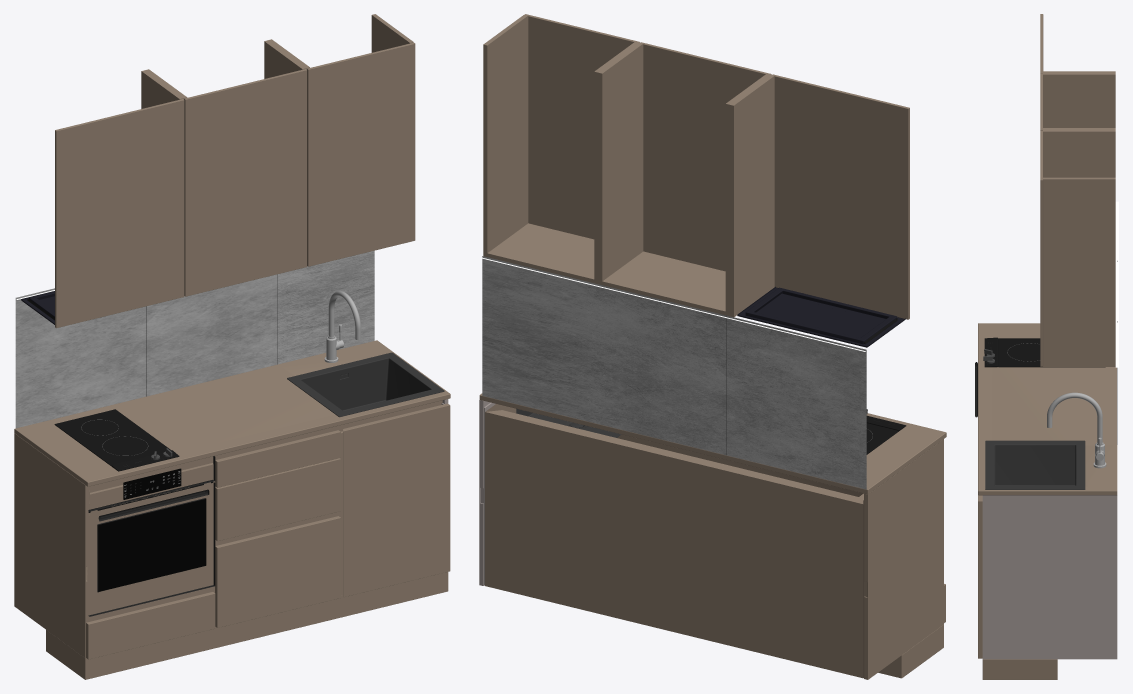
3 renders of one model, left to right at view 1: azimuth 30°, elevation 25°; view 2: azimuth 150°, elevation 25°; view 3: azimuth 270°, elevation 25°, orthographic. The views are drawn at different scales.
Parts seen in each view (by area): view 1: кухня.005, Плоскость.013, Ovens.003, kitchen sink001.003, plate, Faucet.003; view 2: кухня.005, Плоскость.013, Hood.003; view 3: кухня.005, kitchen sink001.003, plate, Faucet.003, Плоскость.020, Box05.
Boxes of the visible parts, <box> form: кухня.005: <box>14,14,450,679</box>; Плоскость.013: <box>15,250,374,428</box>; Ovens.003: <box>88,456,215,616</box>; kitchen sink001.003: <box>287,352,444,417</box>; plate: <box>54,409,170,466</box>; Faucet.003: <box>324,291,360,362</box>; кухня.005: <box>479,14,946,679</box>; Плоскость.013: <box>482,256,866,489</box>; Hood.003: <box>737,286,905,347</box>; кухня.005: <box>978,14,1117,679</box>; kitchen sink001.003: <box>985,440,1085,489</box>; plate: <box>998,338,1105,367</box>; Faucet.003: <box>1047,392,1106,468</box>; Плоскость.020: <box>1115,201,1118,367</box>; Box05: <box>984,337,997,367</box>.
Size of the model in its own units: 1.8 by 2.5 by 0.6527.
22 materials, 3 textured.
